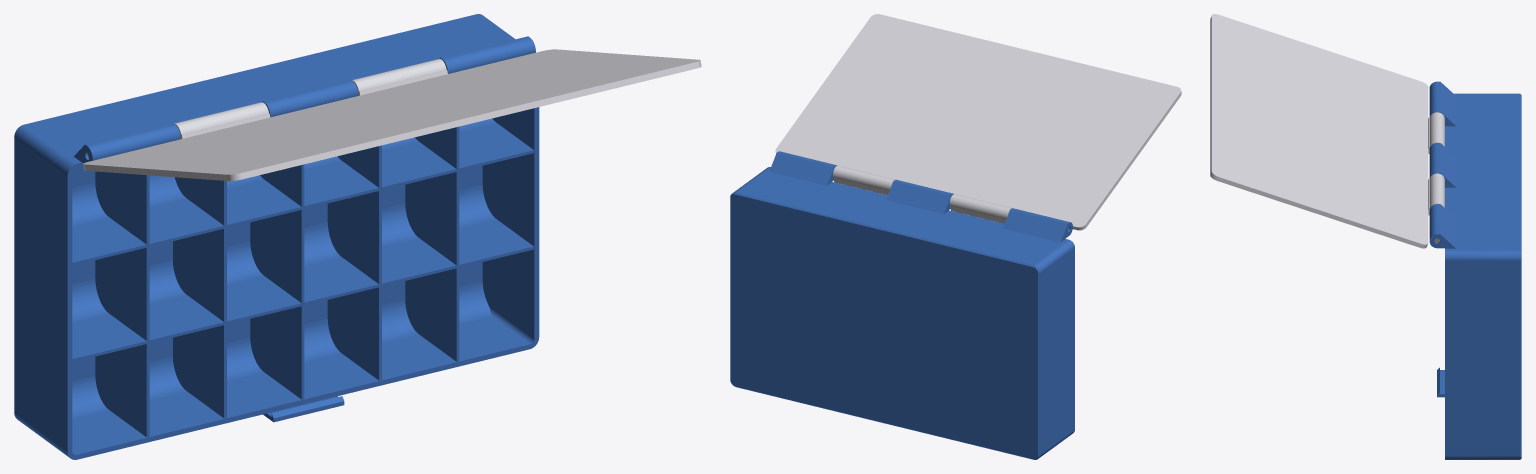
The model's file is variant-COLS_6-ROWS_3.glb.
3 views of the same model, side by side, from view 1: azimuth 30°, elevation 25°; view 2: azimuth 150°, elevation 25°; view 3: azimuth 270°, elevation 25° (orthographic). The views are drawn at different scales.
Parts seen in each view (by area): view 1: 0:Kasten, 1:Deckel; view 2: 0:Kasten, 1:Deckel; view 3: 1:Deckel, 0:Kasten.
Boxes of the visible parts, x1,y1,x2,y2 form: 0:Kasten: [14, 14, 539, 459]; 1:Deckel: [83, 49, 701, 181]; 0:Kasten: [730, 151, 1074, 459]; 1:Deckel: [775, 14, 1181, 230]; 1:Deckel: [1210, 14, 1444, 248]; 0:Kasten: [1429, 81, 1521, 459].
Size of the model in its own units: 200 by 167 by 162.
